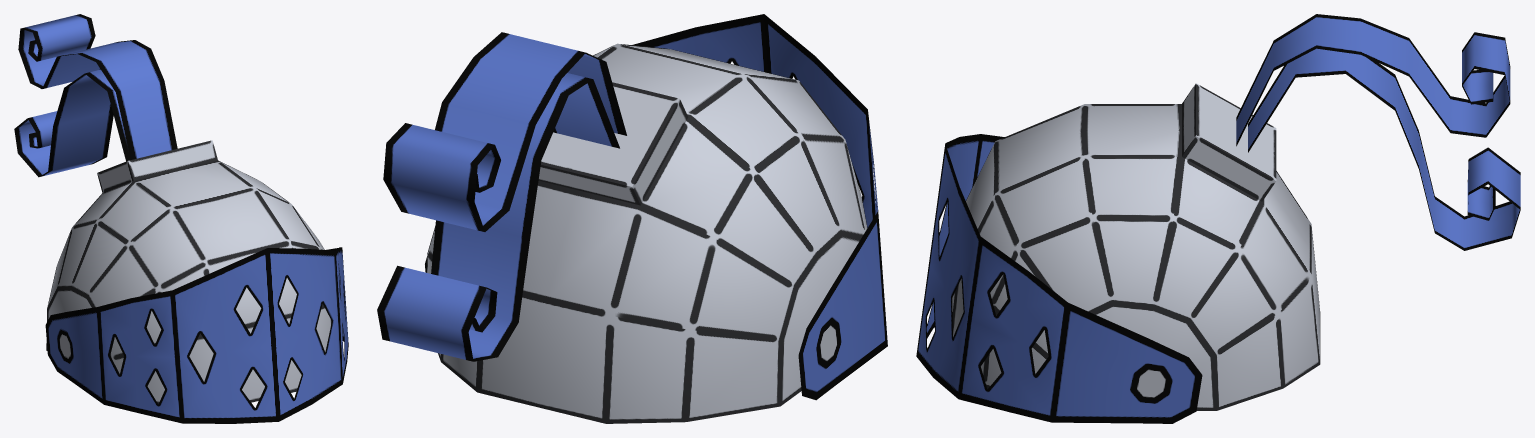
File: defense.FBX
The picture shows the model from 3 angles, left to right: view 1: azimuth 30°, elevation 25°; view 2: azimuth 150°, elevation 25°; view 3: azimuth 270°, elevation 25°; orthographic projection. The views are drawn at different scales.
Parts seen in each view (by area): view 1: オブジェクト001, Sphere001; view 2: Sphere001, オブジェクト001; view 3: Sphere001, オブジェクト001.
Part boxes in pixels (x1,y1,x2,y2): オブジェクト001: (14, 14, 348, 423); Sphere001: (46, 140, 331, 404); Sphere001: (427, 43, 867, 423); オブジェクト001: (377, 14, 887, 400); Sphere001: (952, 83, 1320, 410); オブジェクト001: (916, 14, 1520, 423).
Size of what is drawn, in the model's own units: 43.44 by 42.87 by 72.21.
